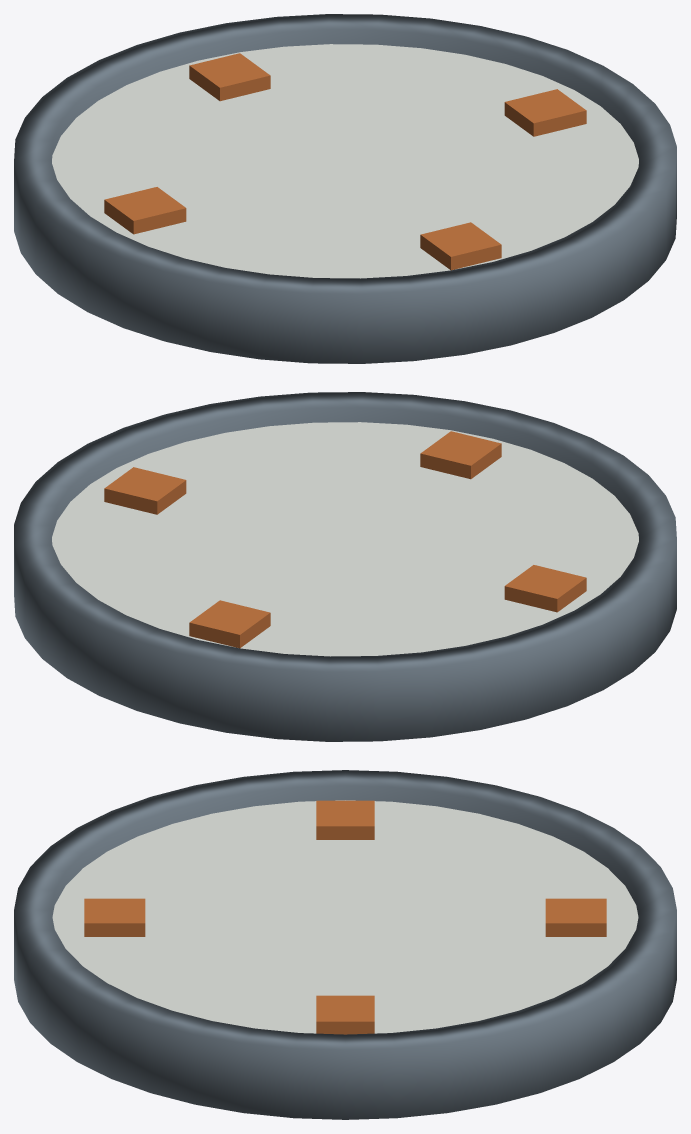
The model's file is jugre_cargo_deck_250.glb.
3 views of the same model, one above another, from view 1: azimuth 30°, elevation 25°; view 2: azimuth 150°, elevation 25°; view 3: azimuth 270°, elevation 25° (orthographic).
Parts seen in each view (by area): view 1: jugre_cargo_deck_250.mesh_Pale_thermal_blanket, jugre_cargo_deck_250.mesh_Machined_steel, jugre_cargo_deck_250.mesh_Spray-on_insulation; view 2: jugre_cargo_deck_250.mesh_Pale_thermal_blanket, jugre_cargo_deck_250.mesh_Machined_steel, jugre_cargo_deck_250.mesh_Spray-on_insulation; view 3: jugre_cargo_deck_250.mesh_Pale_thermal_blanket, jugre_cargo_deck_250.mesh_Machined_steel, jugre_cargo_deck_250.mesh_Spray-on_insulation.
Boxes of the visible parts, x1,y1,x2,y2 form: jugre_cargo_deck_250.mesh_Pale_thermal_blanket: (52,44,638,278); jugre_cargo_deck_250.mesh_Machined_steel: (14,14,676,363); jugre_cargo_deck_250.mesh_Spray-on_insulation: (104,53,586,270); jugre_cargo_deck_250.mesh_Pale_thermal_blanket: (52,422,638,656); jugre_cargo_deck_250.mesh_Machined_steel: (14,392,676,741); jugre_cargo_deck_250.mesh_Spray-on_insulation: (104,431,586,648); jugre_cargo_deck_250.mesh_Pale_thermal_blanket: (52,800,638,1033); jugre_cargo_deck_250.mesh_Machined_steel: (14,770,676,1119); jugre_cargo_deck_250.mesh_Spray-on_insulation: (84,800,606,1034).
Size of the model in its own units: 2.5 by 0.29 by 2.5.
